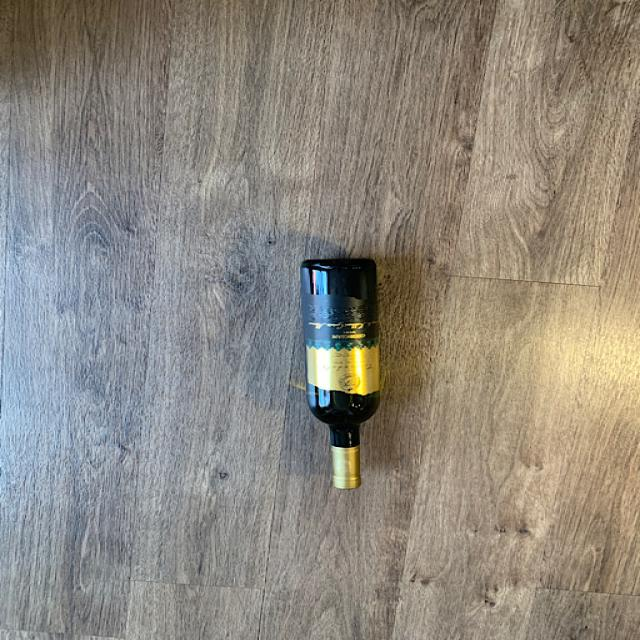litter: (297, 256, 398, 498)
